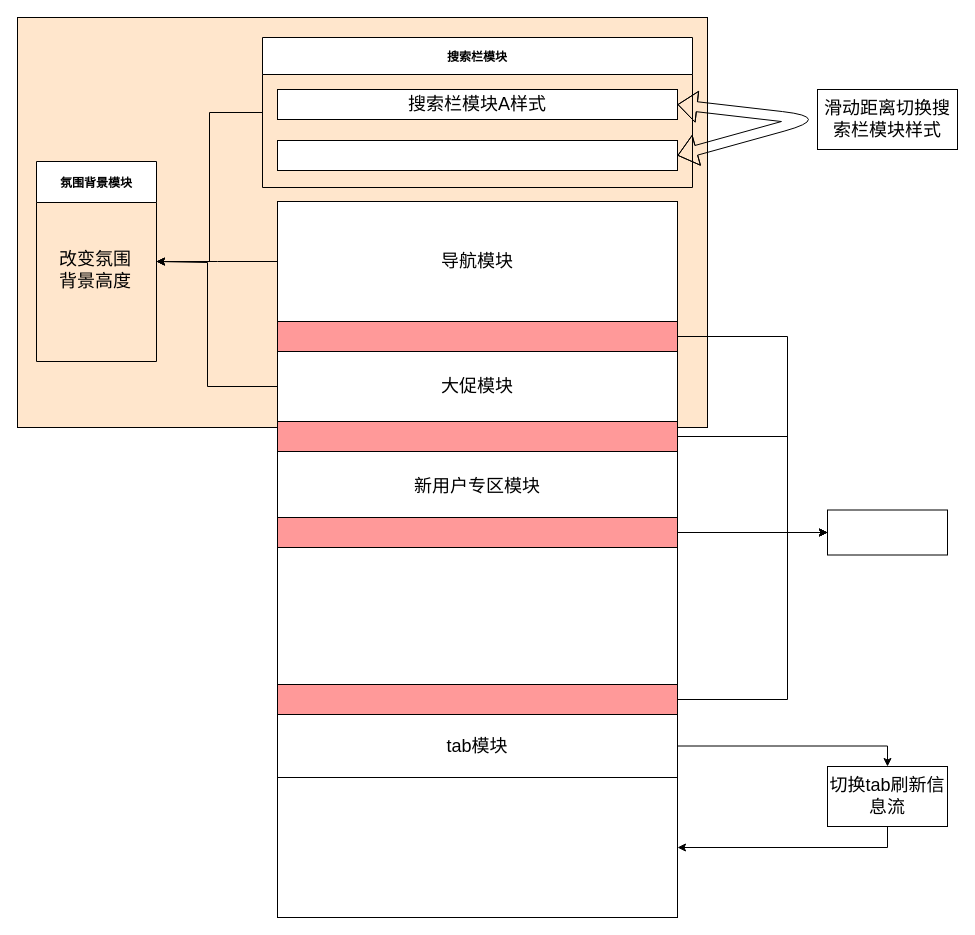
This 975x935 diagram has some shape labels left out. Here are the shapes that lost their labels. From the top down, the centre of each, then its label:
[477,155]: 搜索栏模块B样式
[887,532]: 模块间隔
[477,617]: RB区模块
[477,847]: feed信息流模块
